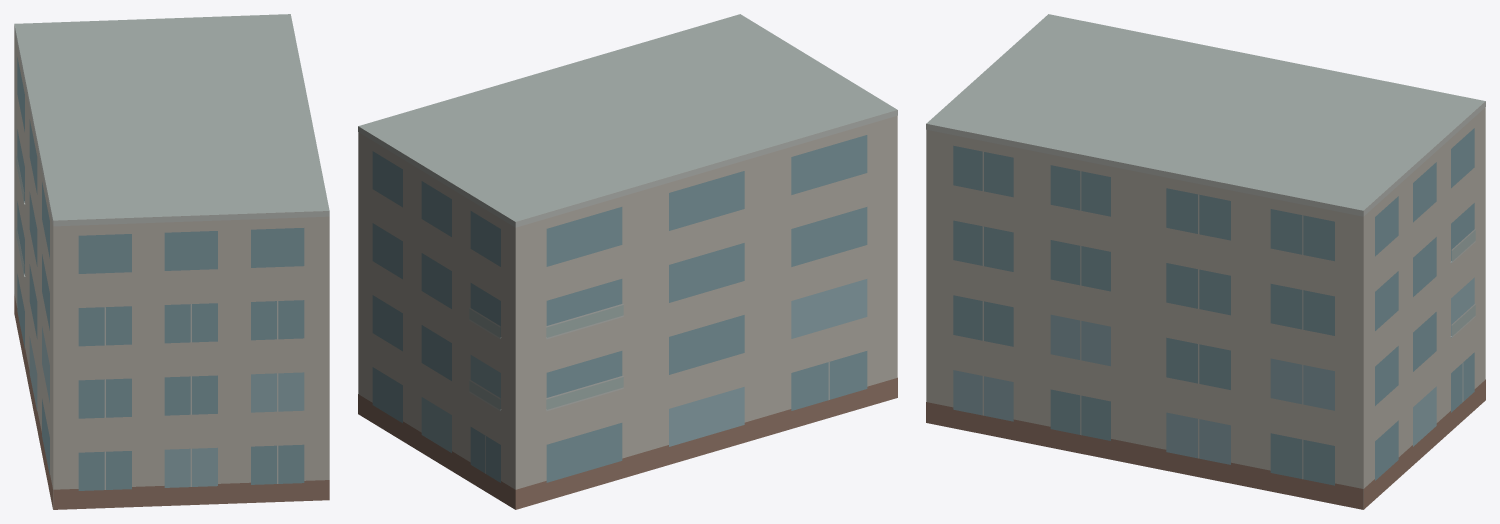
The model's file is residential-f9a6a83d-52a1-4c7f-96af-ccc47cb0d274.glb.
The picture shows the model from 3 angles, left to right: view 1: azimuth 30°, elevation 25°; view 2: azimuth 150°, elevation 25°; view 3: azimuth 270°, elevation 25°; orthographic projection. The views are drawn at different scales.
Visible parts, largest first — view 1: residential-f9a6a83d-52a1-4c7f-96af-ccc47cb0d274.tmp; view 2: residential-f9a6a83d-52a1-4c7f-96af-ccc47cb0d274.tmp; view 3: residential-f9a6a83d-52a1-4c7f-96af-ccc47cb0d274.tmp.
Part boxes in pixels (box(x1,y1,x2,y2)): residential-f9a6a83d-52a1-4c7f-96af-ccc47cb0d274.tmp: box(14, 14, 329, 509); residential-f9a6a83d-52a1-4c7f-96af-ccc47cb0d274.tmp: box(358, 14, 897, 509); residential-f9a6a83d-52a1-4c7f-96af-ccc47cb0d274.tmp: box(926, 14, 1485, 509).
Size of the model in its own units: 17.22 by 12.2 by 20.69.
